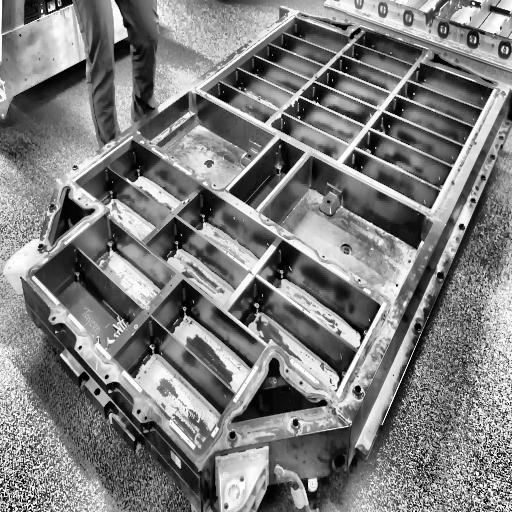b_casing: (18, 0, 512, 473)
